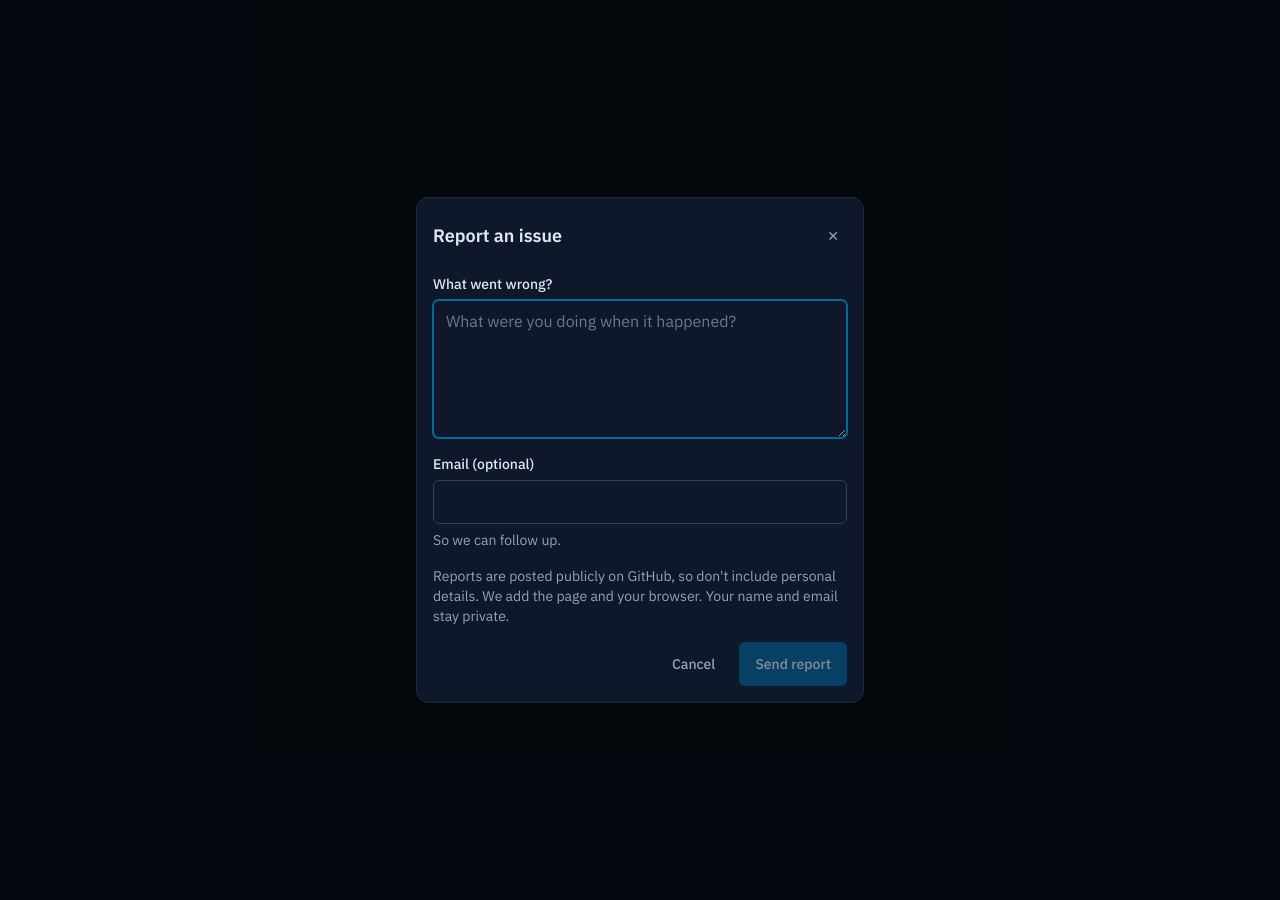
Scenario: FeedbackWidget submit › shows the server error when the report is refused
Type "The map never loads on the plan page." into the text box labelled "What went wrong?".
click(640, 369); type("The map never loads on the plan page.")  # box left=433, top=300, right=847, bottom=438
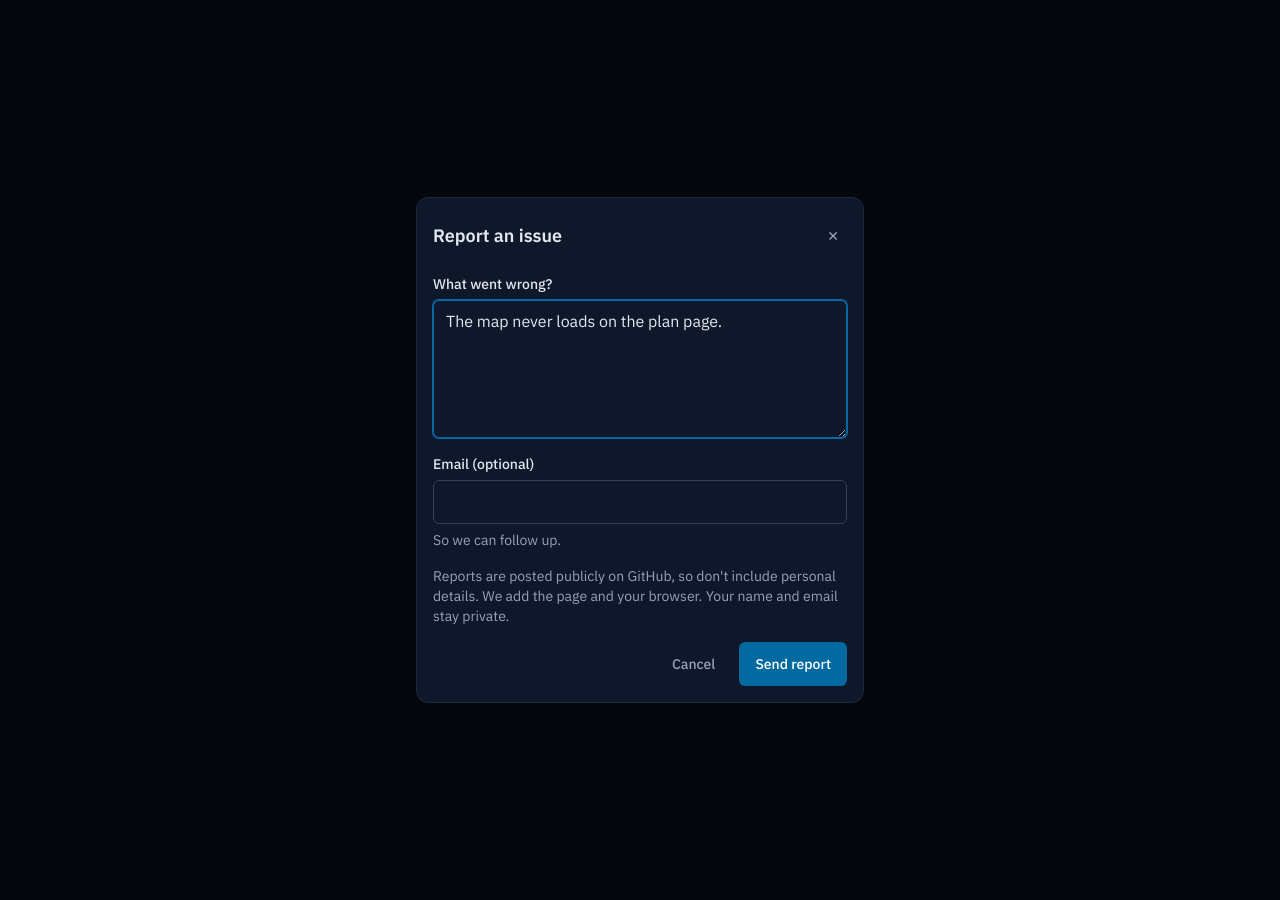
Click the button "Send report".
click(793, 664)  # box left=739, top=642, right=847, bottom=686
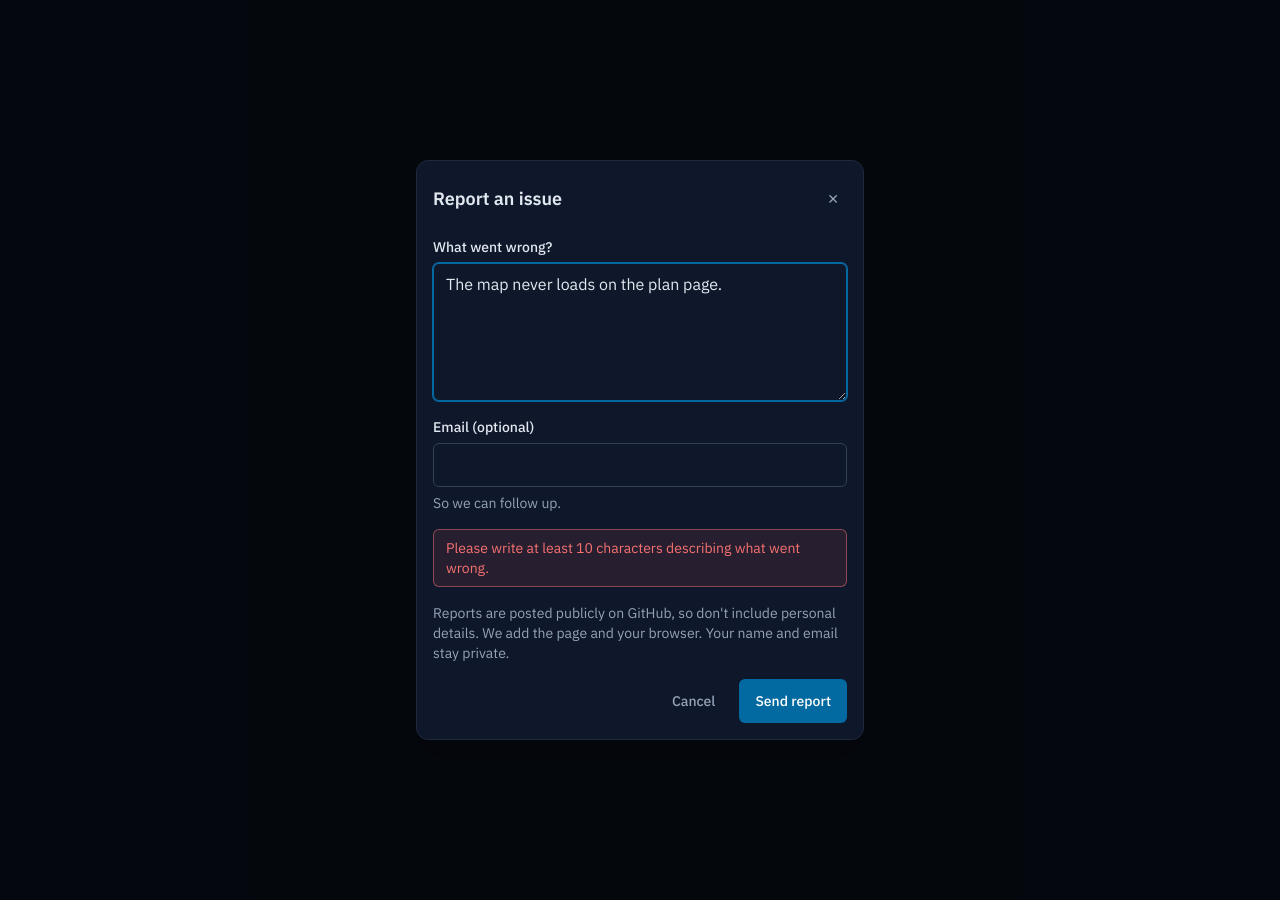
Now the message "Please write at least 10 characters describing what went wrong." is shown, box left=433, top=529, right=847, bottom=587
